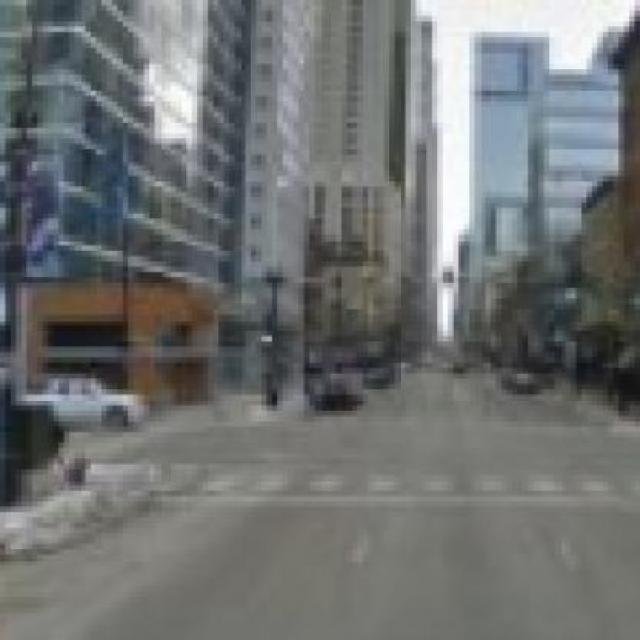crosswalk: (156, 467, 633, 498)
